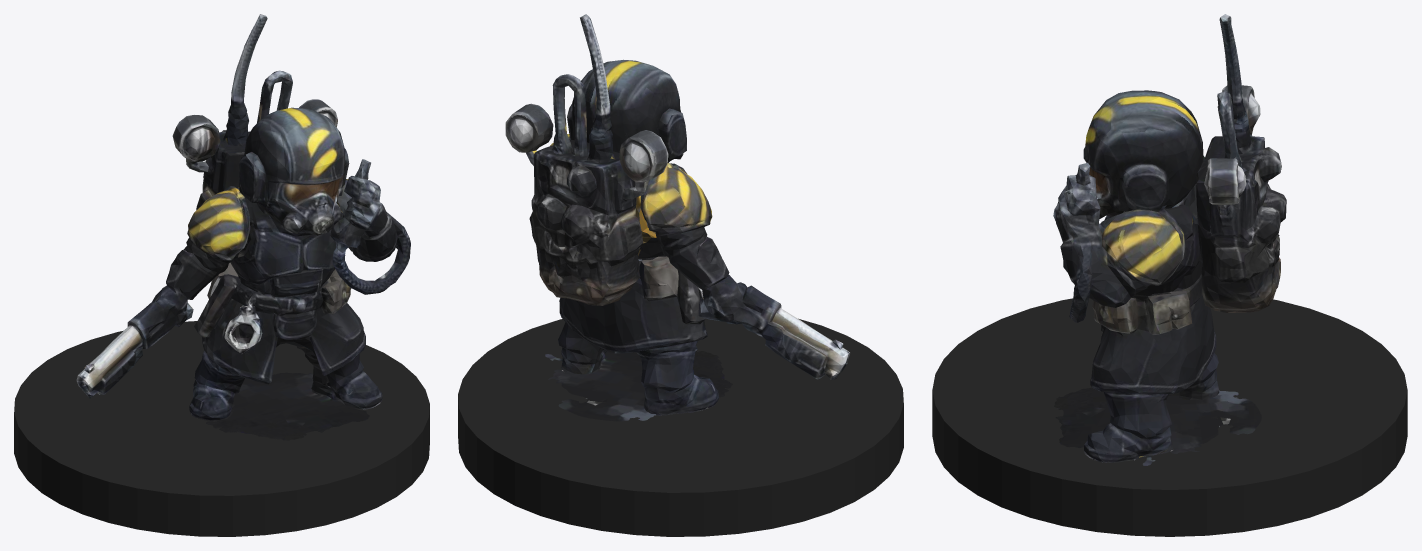
File: ex-vox-signifier.glb
3 renders of one model, left to right at view 1: azimuth 30°, elevation 25°; view 2: azimuth 150°, elevation 25°; view 3: azimuth 270°, elevation 25°, orthographic. The views are drawn at different scales.
Parts seen in each view (by area): view 1: figure, base; view 2: base, figure; view 3: base, figure.
Boxes of the visible parts, x1,y1,x2,y2 form: figure: (76,14,410,440); base: (14,321,429,536); base: (458,318,903,536); figure: (505,14,849,421); base: (932,298,1407,536); figure: (1053,14,1286,465).
Size of the model in its own units: 1.1 by 1.17 by 1.1.
Materials: 2 (1 with a texture image).
